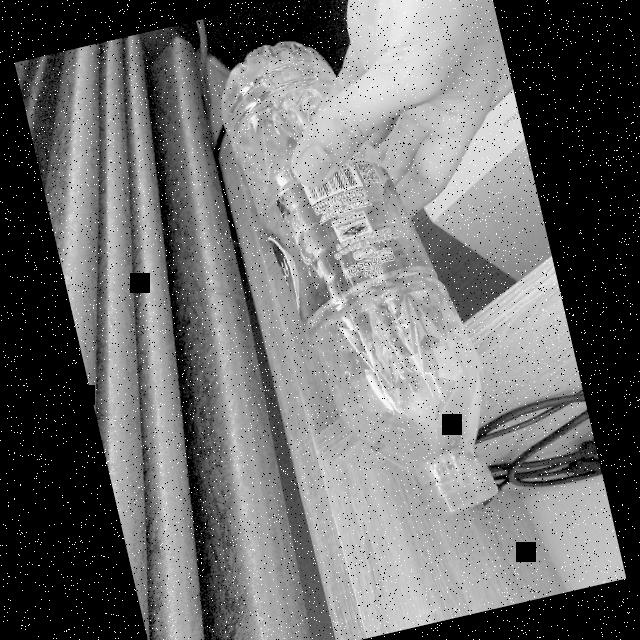plastic_bottle: (202, 9, 518, 550)
plastic_bottle_cap: (409, 458, 505, 526)
